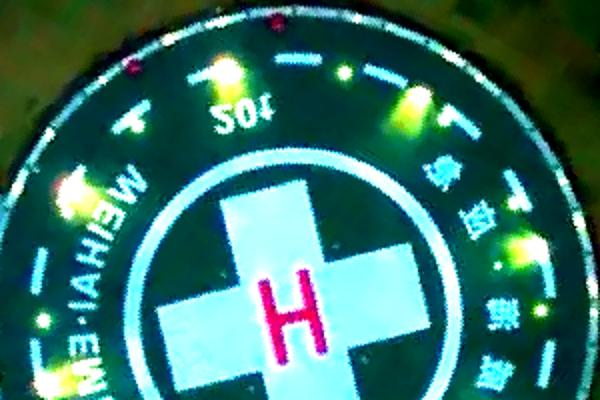Apron: (121, 135, 461, 400)
